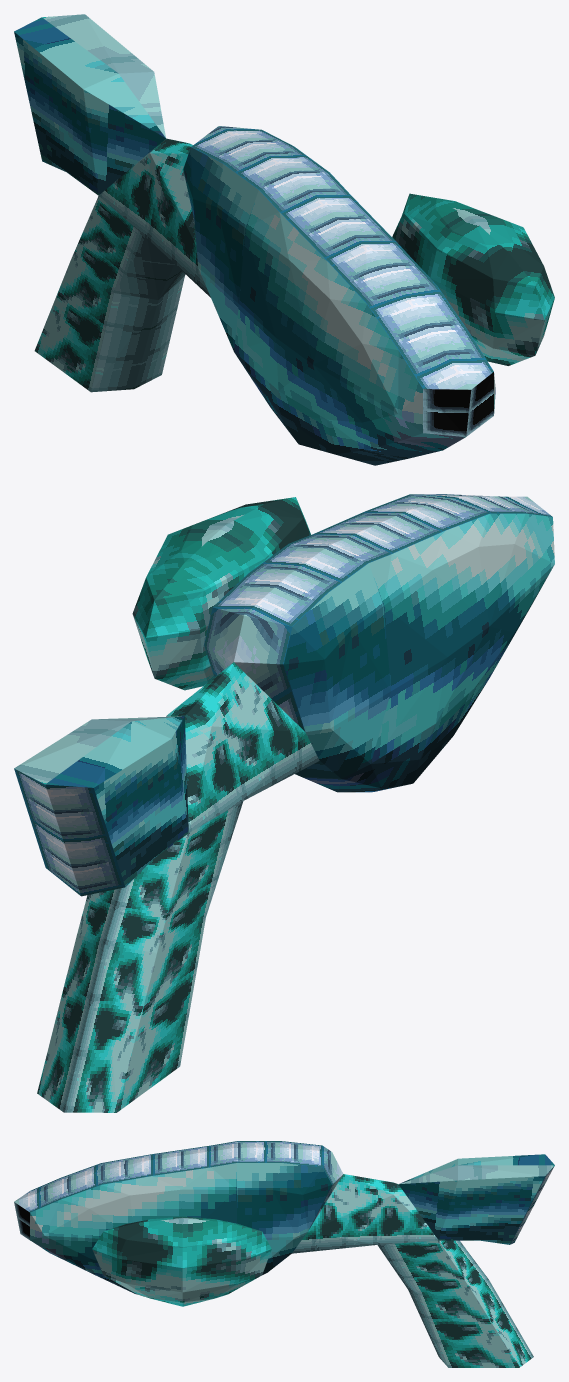
File: 06-phoenix-fp.glb
The picture shows the model from 3 angles, top to bottom: view 1: azimuth 30°, elevation 25°; view 2: azimuth 150°, elevation 25°; view 3: azimuth 270°, elevation 25°; orthographic projection. The views are drawn at different scales.
Visible parts, largest first — view 1: gun; view 2: gun; view 3: gun.
Part boxes in pixels (x1=…): gun: x1=14, y1=14, x2=554, y2=465; gun: x1=14, y1=494, x2=554, y2=1112; gun: x1=14, y1=1141, x2=554, y2=1367.
Bounding box in the file's own units: 140 × 172 × 403.
5 materials, 5 textured.
